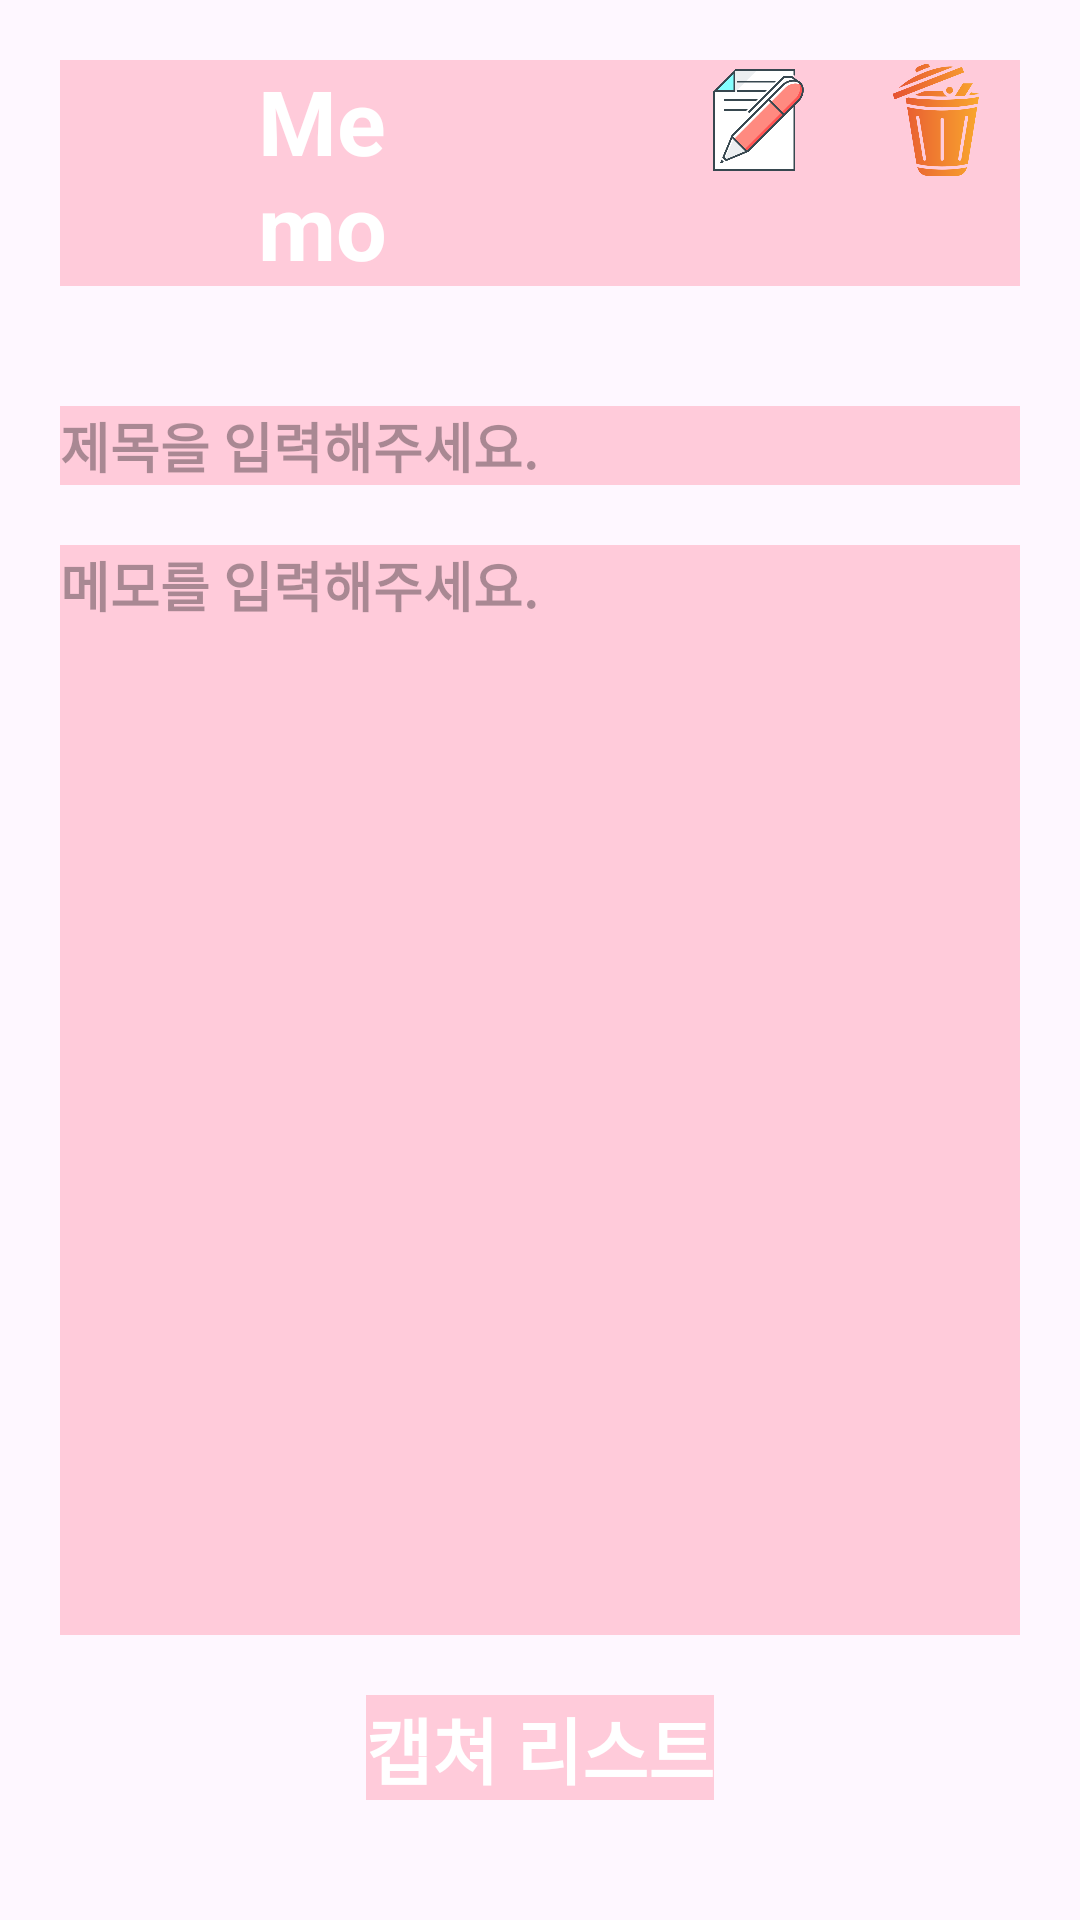

Point at icon controls on the screen. Image size 1080px×1920px, points as [x,y].
copywriting: [758,120]
trash: [936,120]
